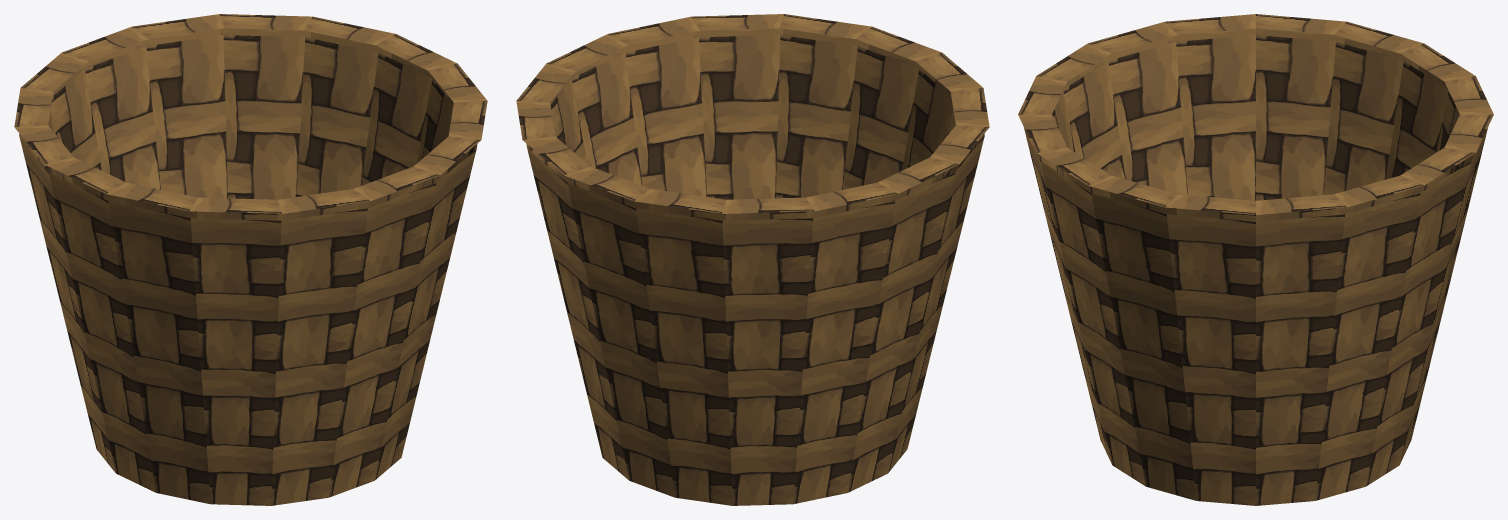
Rendered from basket.glb.
3 renders of one model, left to right at view 1: azimuth 30°, elevation 25°; view 2: azimuth 150°, elevation 25°; view 3: azimuth 270°, elevation 25°, orthographic.
Parts seen in each view (by area): view 1: basket; view 2: basket; view 3: basket.
Part boxes in pixels (<box>): basket: <box>14,14,487,505</box>; basket: <box>516,14,989,505</box>; basket: <box>1018,14,1493,505</box>.
Size of the model in its own units: 0.98 by 0.74 by 0.98.
Materials: 2 (1 with a texture image).
